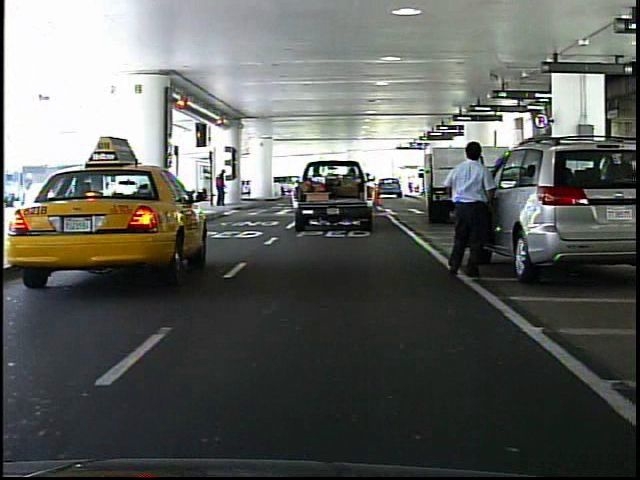person: (439, 133, 497, 283), (212, 165, 230, 208)
